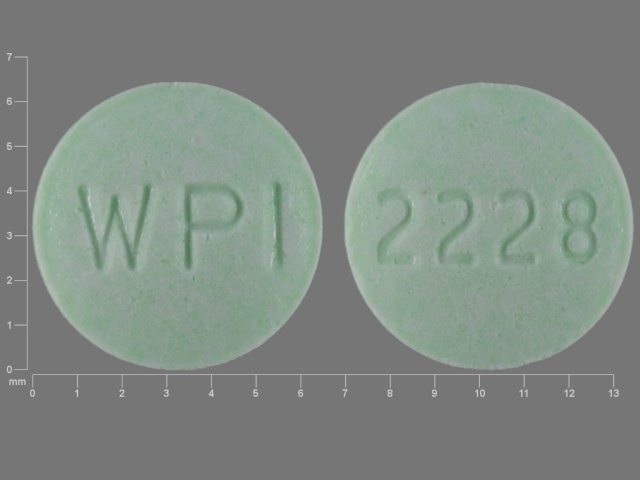2: (365, 186, 422, 270), (435, 181, 480, 269), (494, 182, 537, 264)
8: (559, 189, 597, 267)
I: (260, 177, 294, 280)
P: (177, 179, 246, 273)
W: (72, 179, 157, 274)
